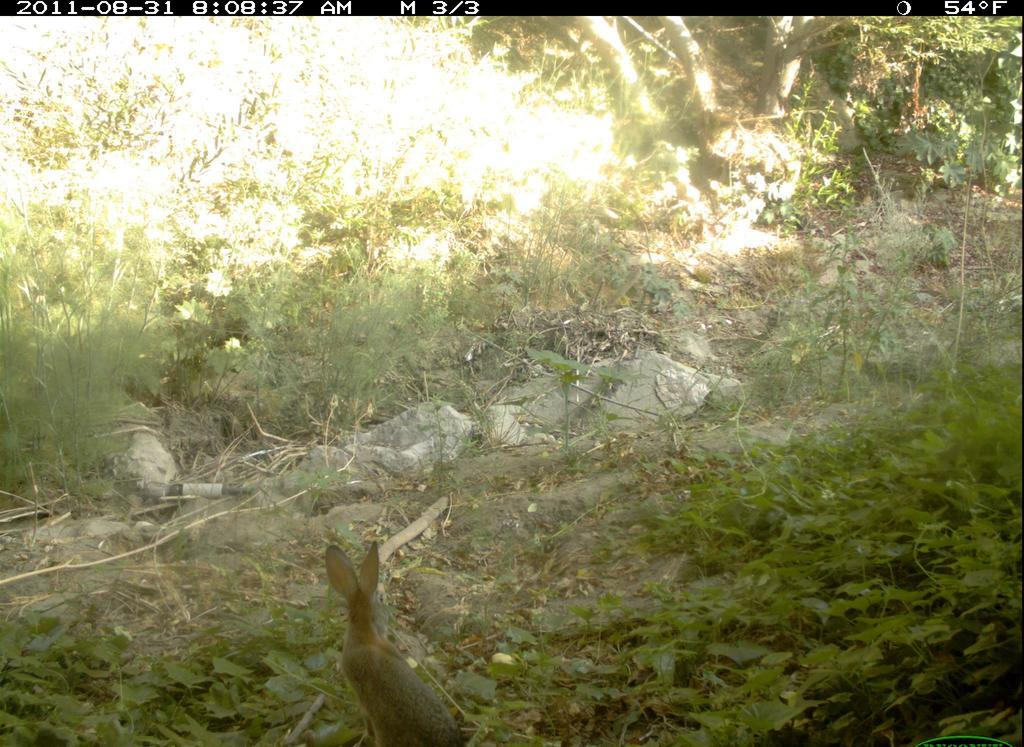rabbit: (313, 530, 474, 747)
